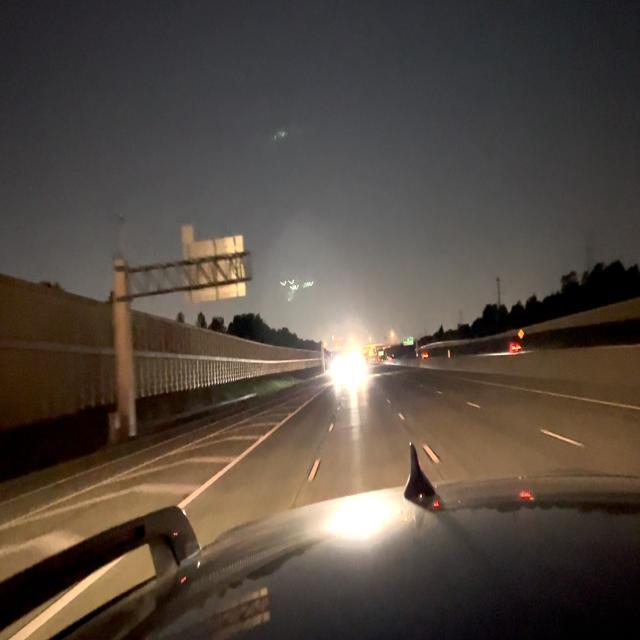back-of-sign: (182, 239, 248, 305), (181, 224, 193, 242)
